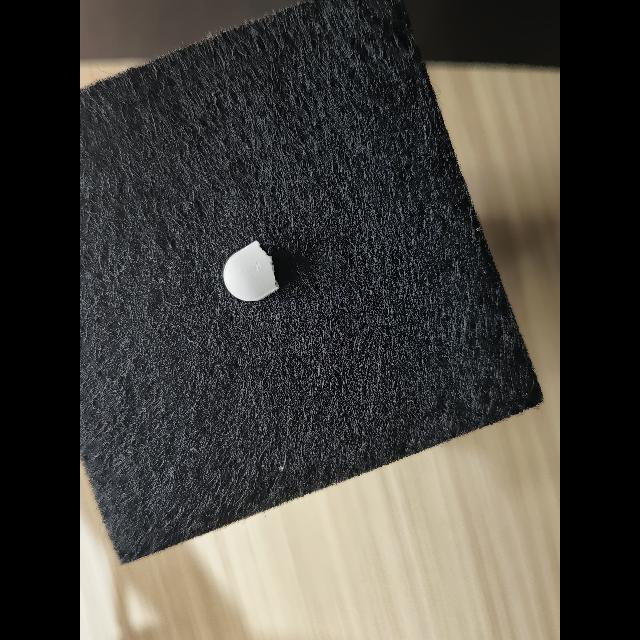Chipped Pill: (223, 240, 280, 301)
